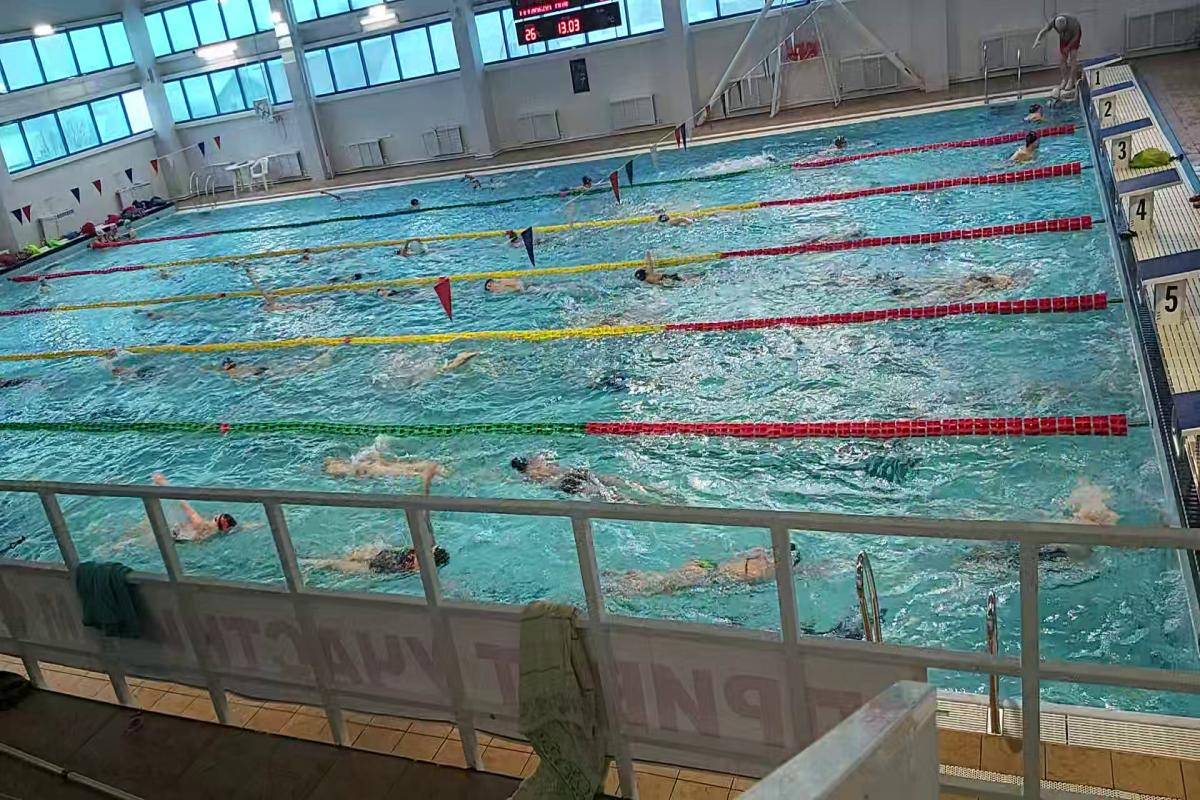swimmer: (611, 530, 832, 610), (997, 488, 1118, 600), (117, 476, 256, 558), (495, 450, 653, 502), (898, 250, 1042, 299), (330, 441, 460, 492), (320, 541, 457, 588), (217, 352, 299, 392), (254, 292, 322, 321), (484, 276, 549, 303), (628, 264, 703, 286), (1009, 131, 1050, 165), (368, 286, 432, 304), (662, 215, 710, 232), (398, 235, 426, 262), (506, 230, 522, 250)
